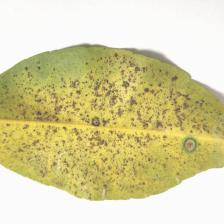canker: (27, 70, 158, 174)
